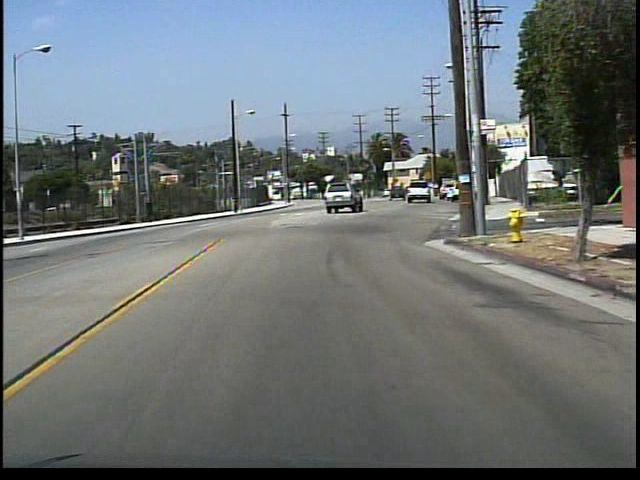person: (145, 193, 161, 224)
